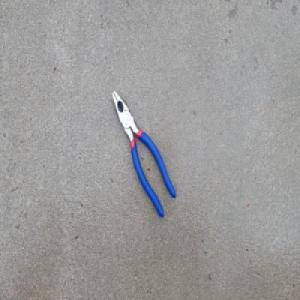Pliers: (111, 88, 177, 220)
